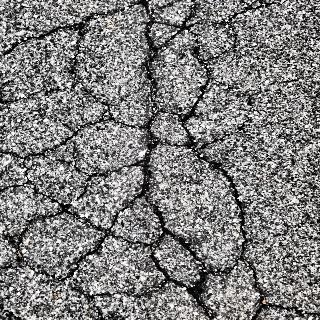alligator-crack: (5, 13, 260, 317)
